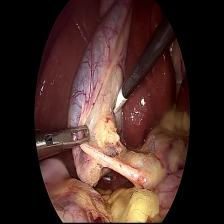Grasper: (35, 124, 90, 159)
Hook: (110, 84, 128, 115)
